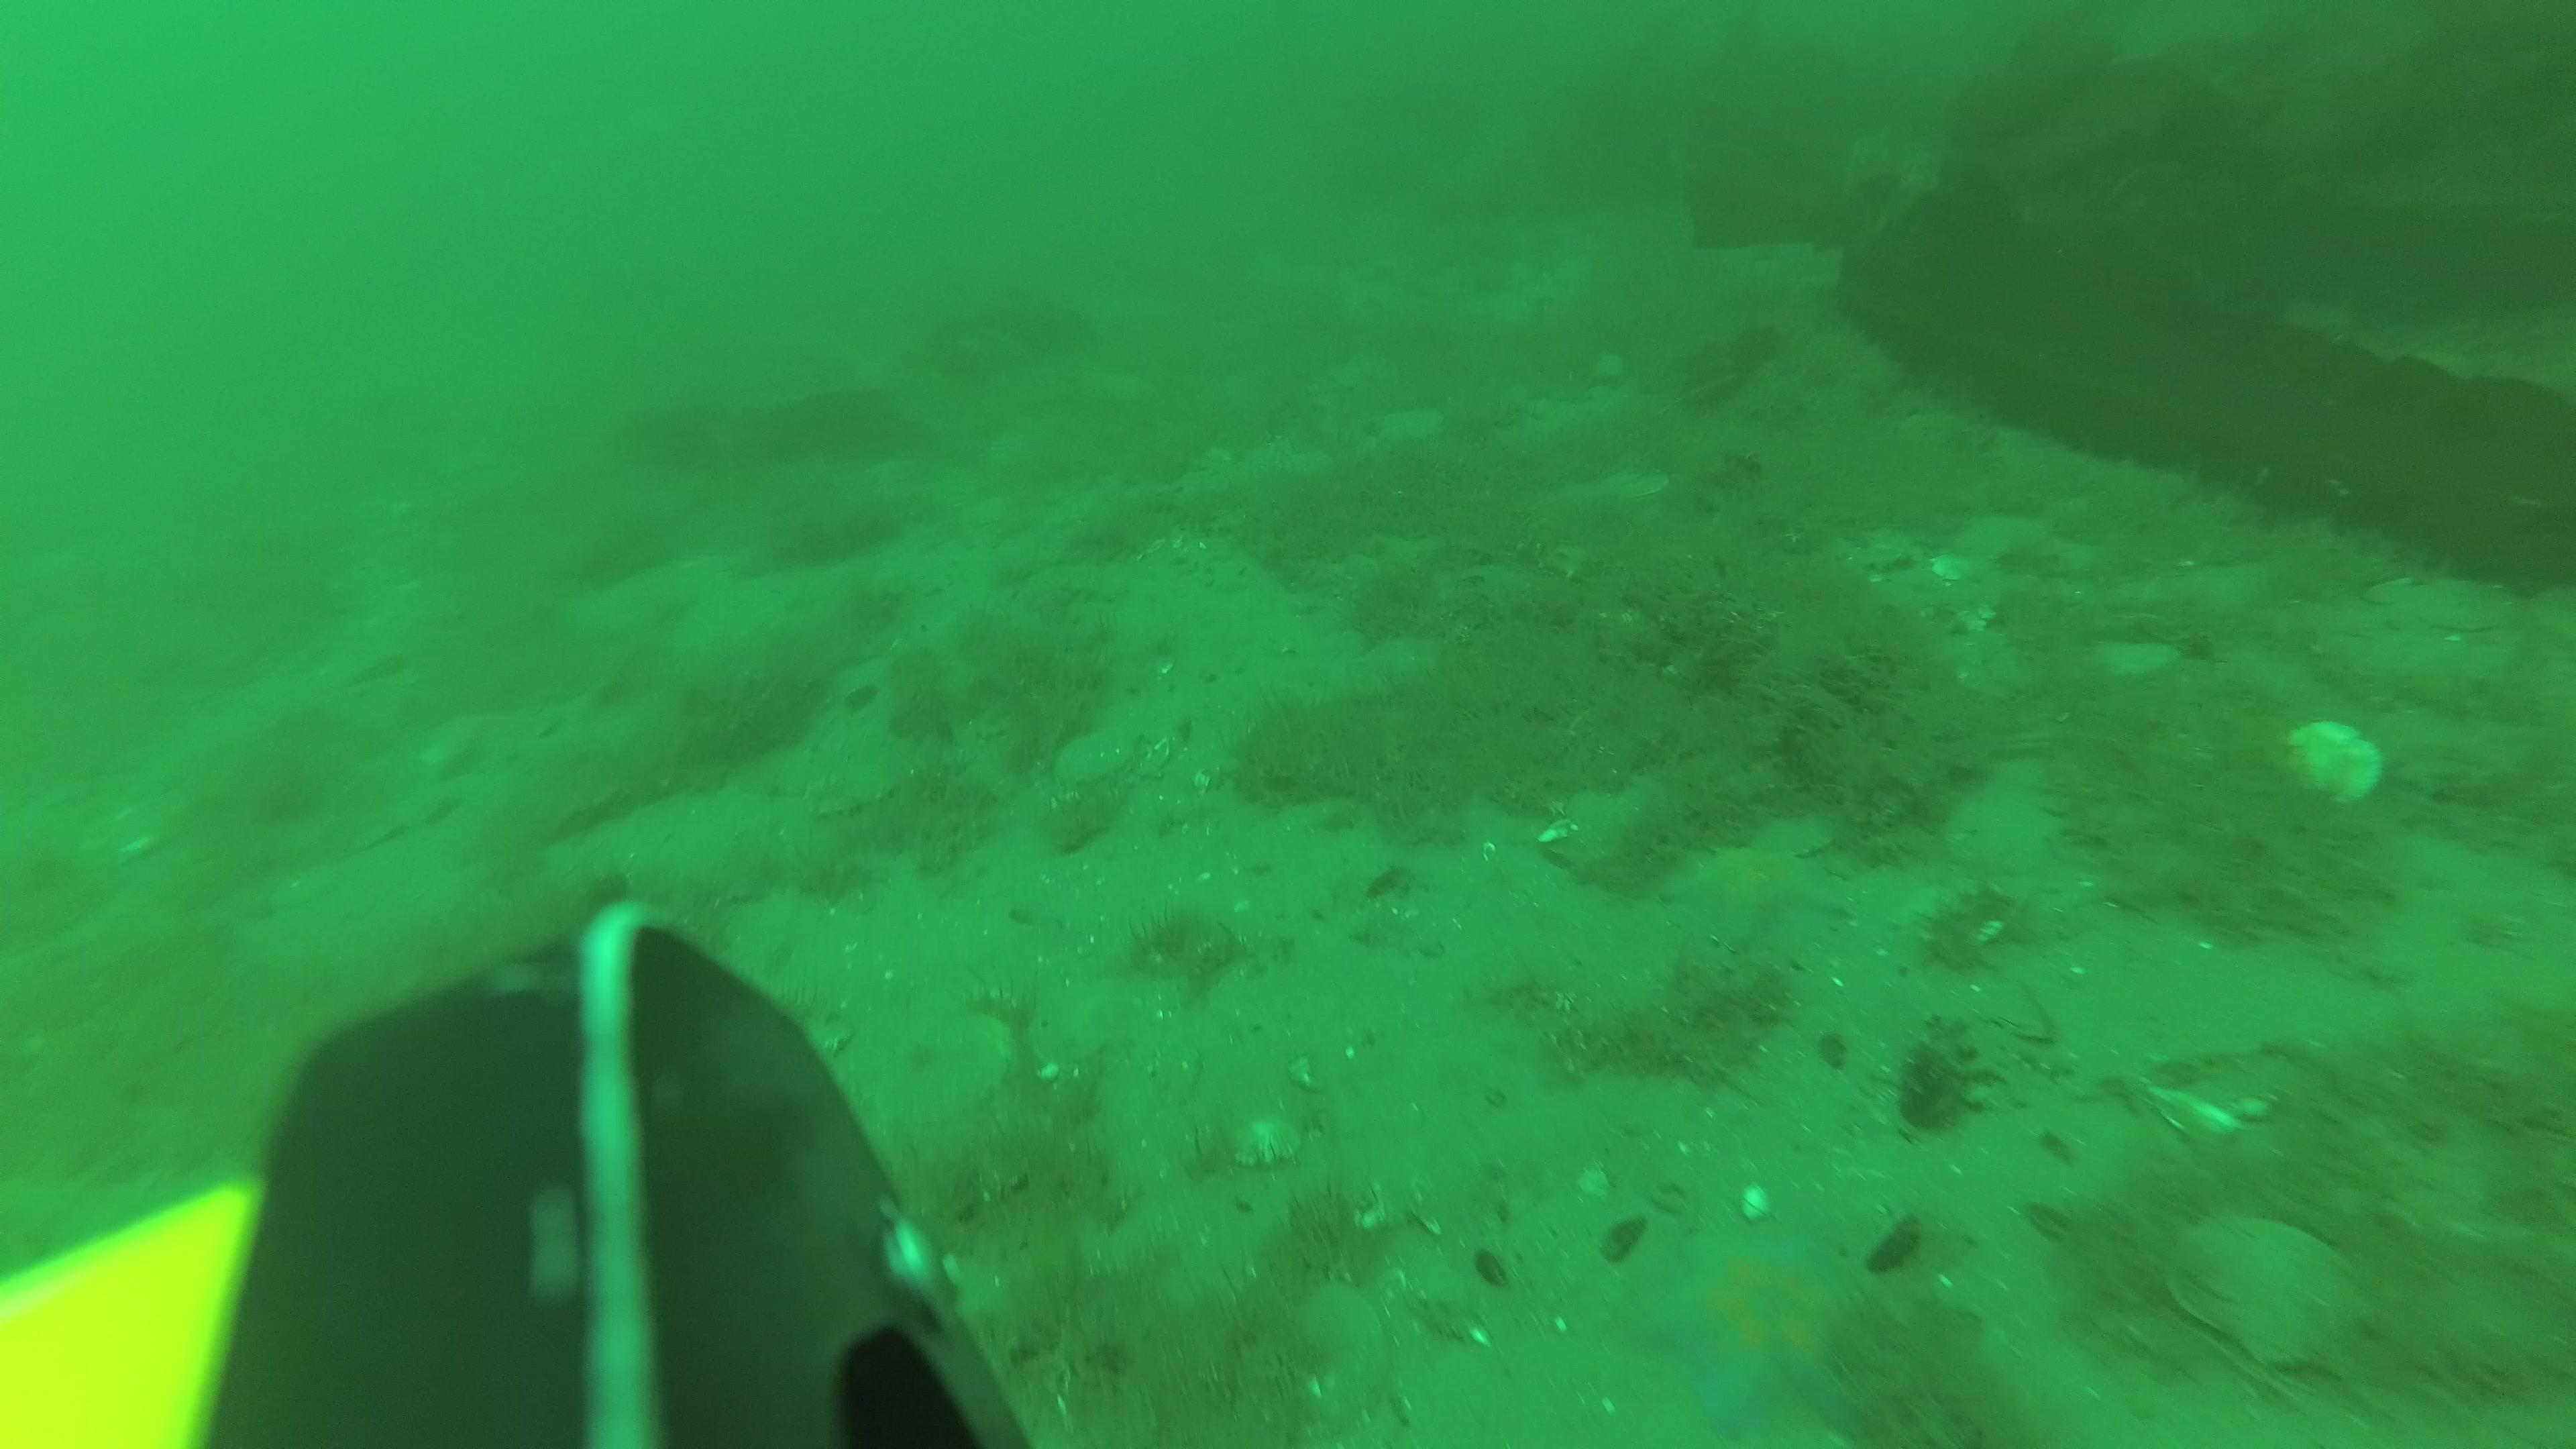scallop: (2167, 1208, 2362, 1366), (2288, 713, 2387, 796)
starfish: (1642, 1228, 1870, 1421), (1663, 832, 1854, 959)
